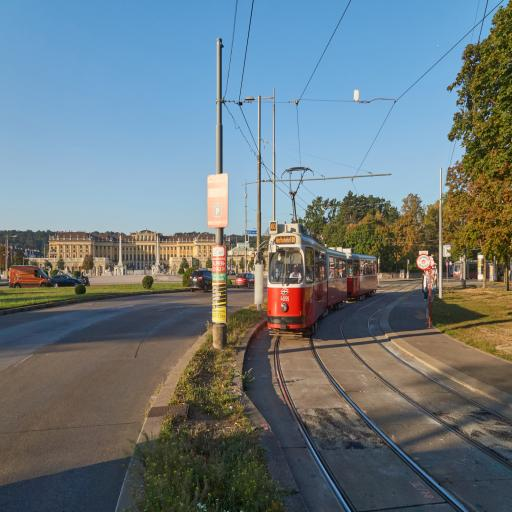E2-Tram: (266, 221, 378, 335)
